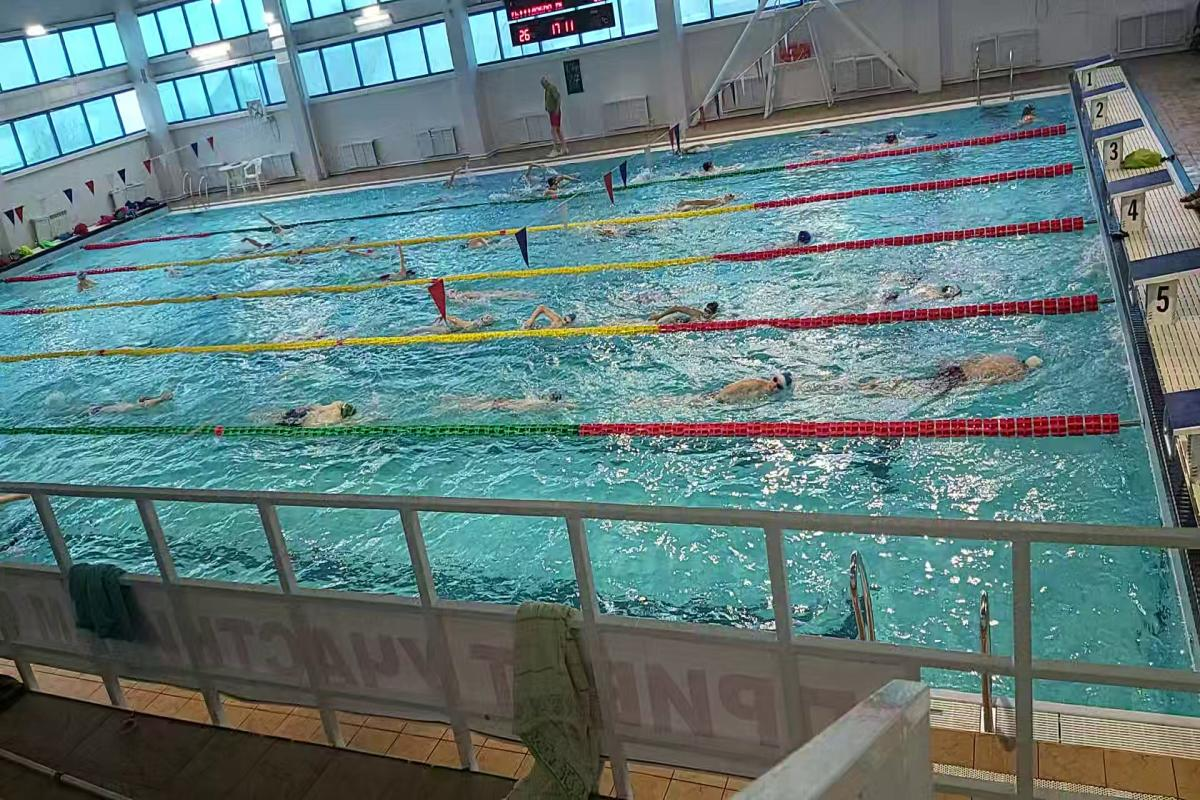swimmer: (864, 351, 1053, 403), (686, 359, 824, 419), (250, 381, 368, 433), (82, 376, 190, 423), (858, 270, 967, 303), (646, 285, 728, 323), (368, 244, 423, 283), (672, 184, 745, 209), (526, 300, 582, 327), (453, 233, 506, 255), (774, 224, 823, 245), (70, 271, 107, 293)
